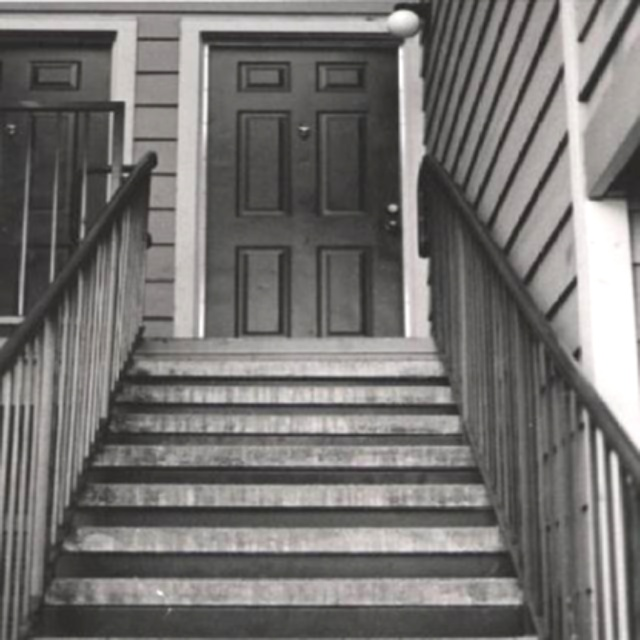stair: (2, 140, 638, 638)
